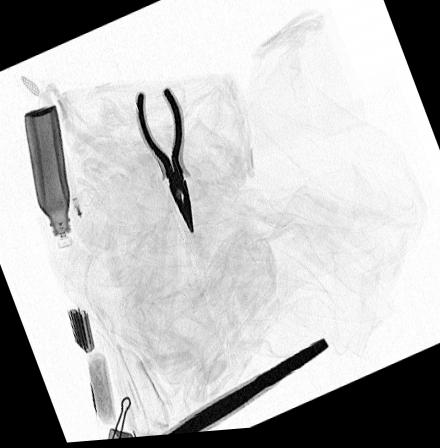Pliers: (159, 339, 332, 438), (134, 87, 194, 236)
